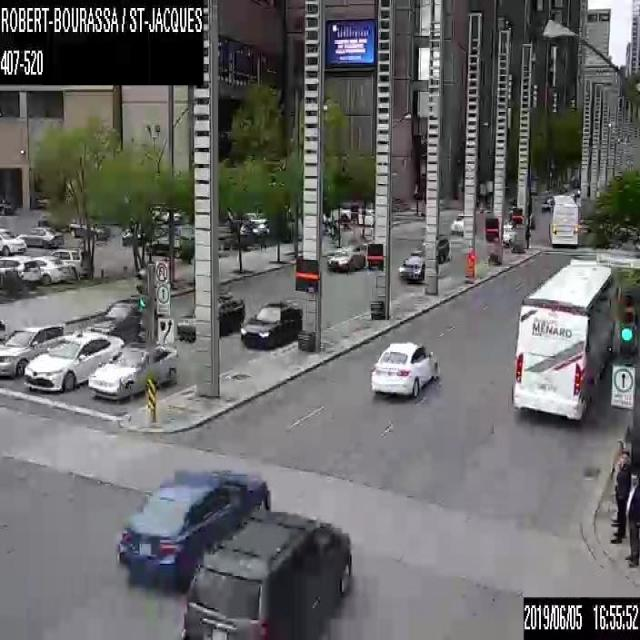bus: (509, 255, 616, 421), (546, 194, 580, 244)
construction: (462, 251, 474, 277)
pedestrian: (610, 448, 631, 544), (624, 473, 639, 568)
vehicle: (184, 506, 352, 639), (116, 462, 271, 584), (24, 327, 121, 390), (89, 341, 179, 397), (369, 337, 437, 399), (0, 323, 65, 377), (239, 300, 303, 350), (176, 290, 244, 337), (89, 297, 143, 342), (52, 248, 96, 278), (324, 241, 366, 271), (0, 255, 40, 285), (398, 252, 439, 280), (408, 234, 449, 262), (144, 233, 189, 258), (32, 254, 69, 284), (20, 225, 64, 247), (69, 218, 110, 239), (342, 204, 374, 226), (37, 212, 68, 233), (0, 229, 26, 254), (216, 226, 233, 249), (501, 221, 514, 247), (450, 211, 464, 234), (122, 228, 144, 242)
